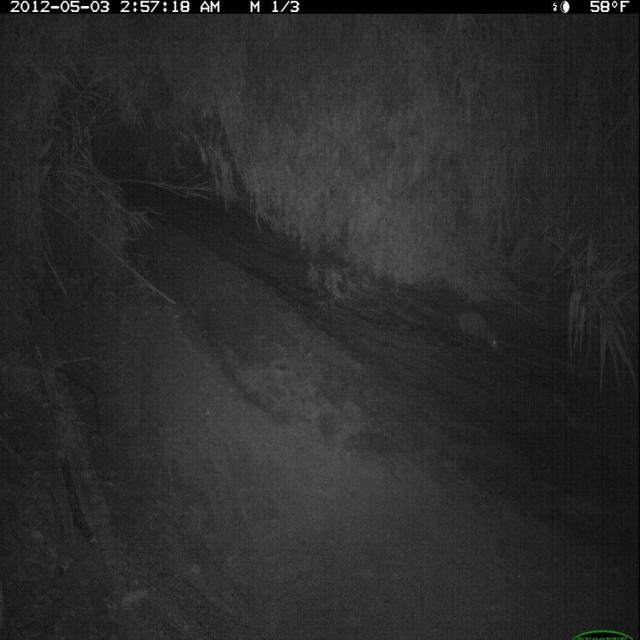opossum: (447, 305, 504, 355)
